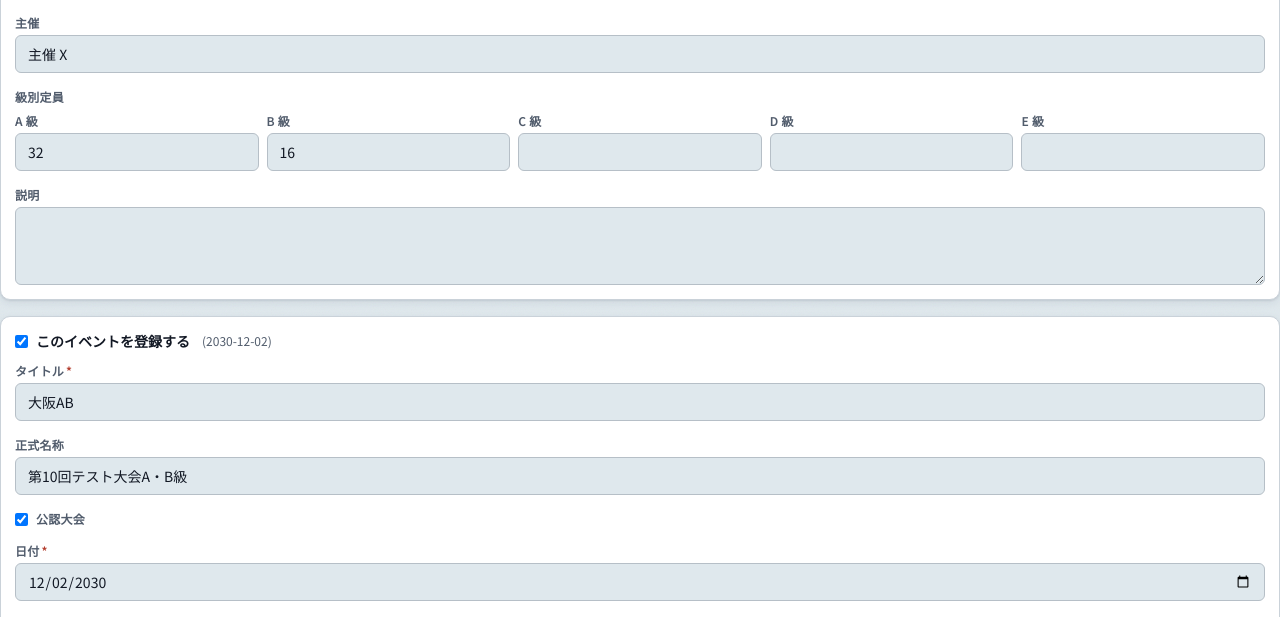
Test: ApprovalForm — 複数単位フォーム › 登録対象の種別変更で選択済み系列が不適合になったら解除する
(page scrolled)
Click the checkbox labelled "このイベントを登録する (2030-12-02)": (22, 341) [15, 335, 28, 348]
(page scrolled)
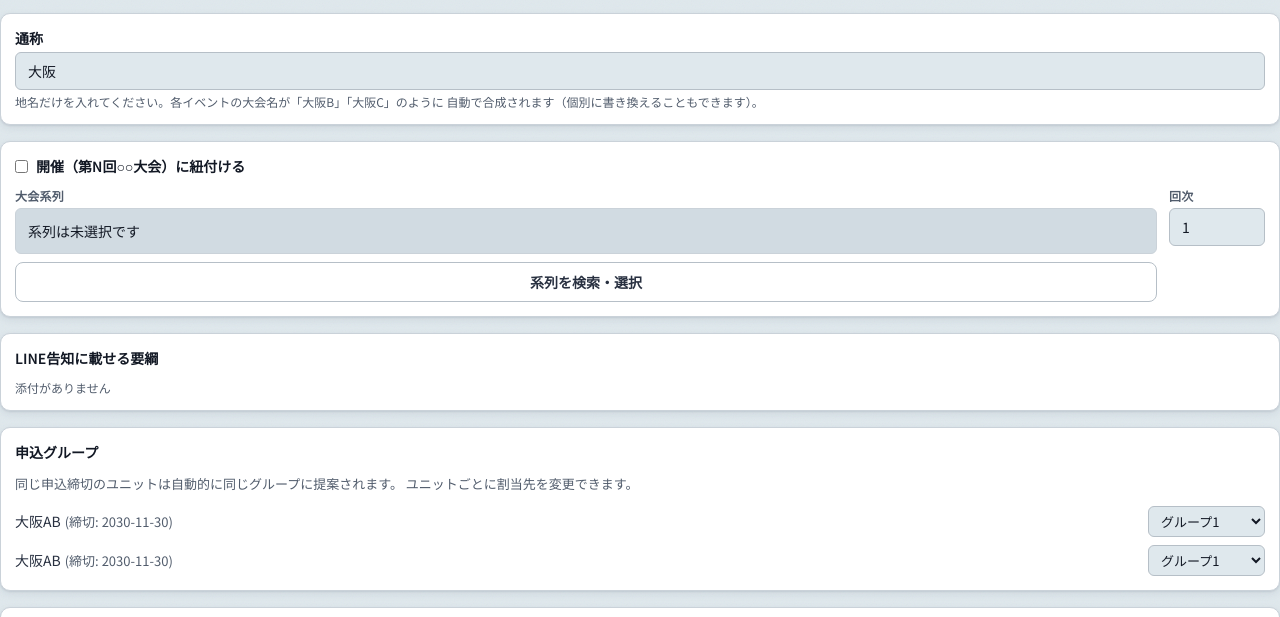
Click the button "系列を検索・選択": (586, 282) [15, 262, 1157, 302]
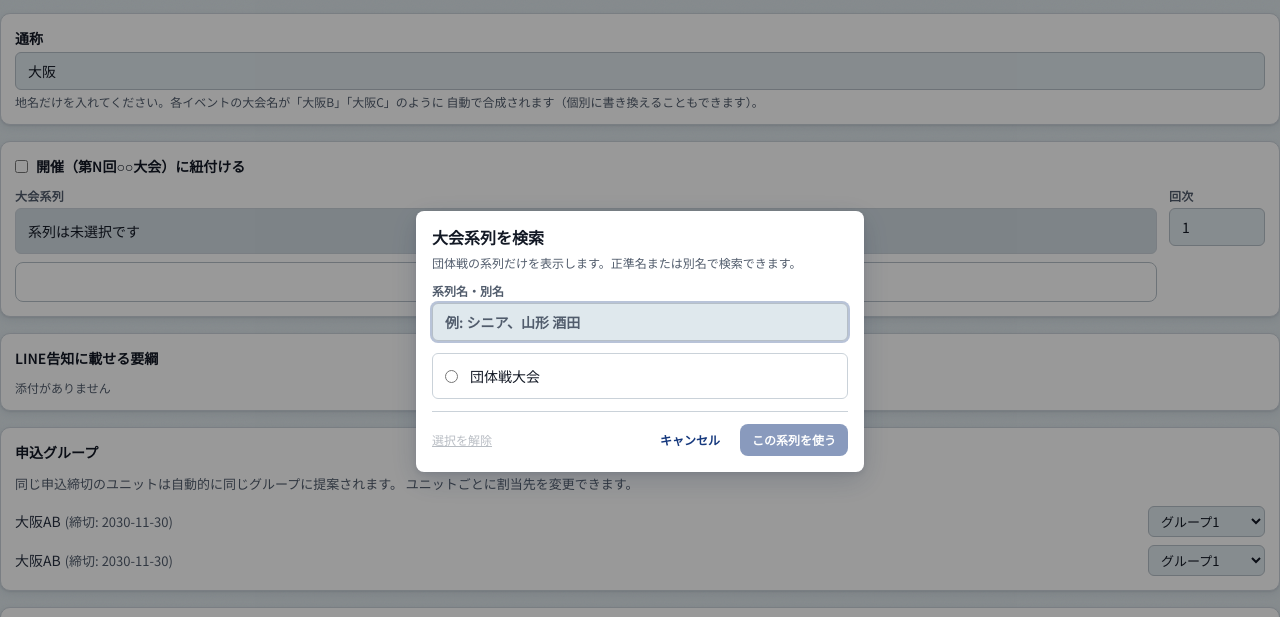
Click the radio button labelled "団体戦大会": (452, 376) [445, 370, 458, 382]
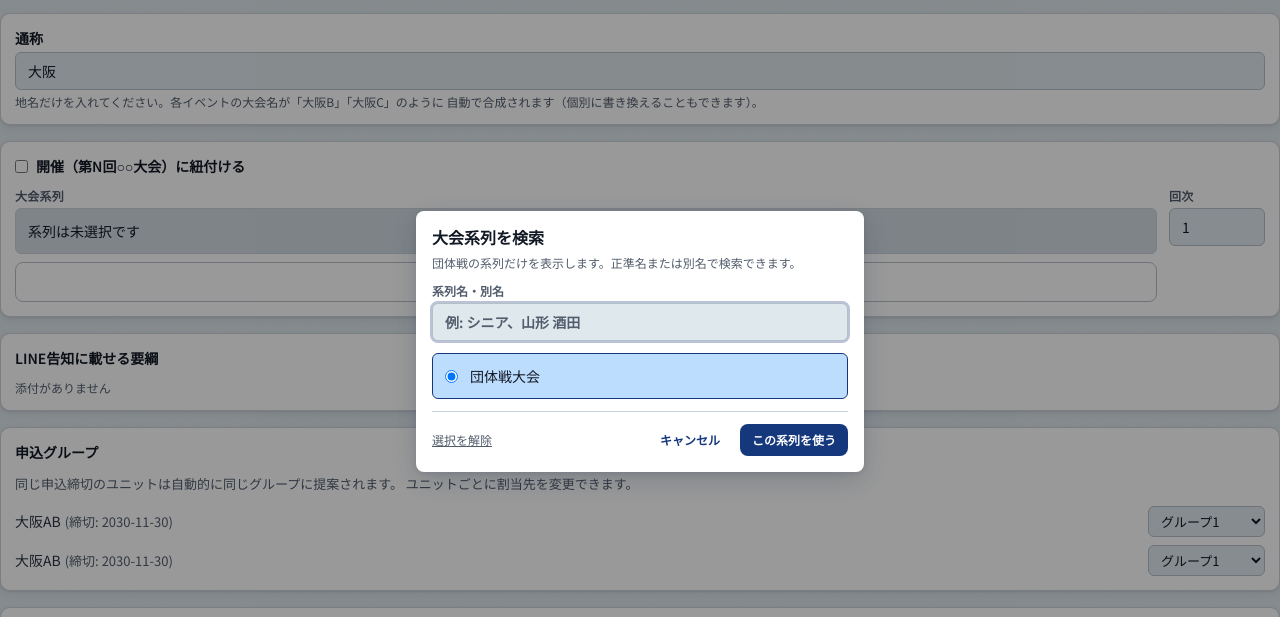
Click the button "この系列を使う": (794, 440) [740, 424, 848, 456]
(page scrolled)
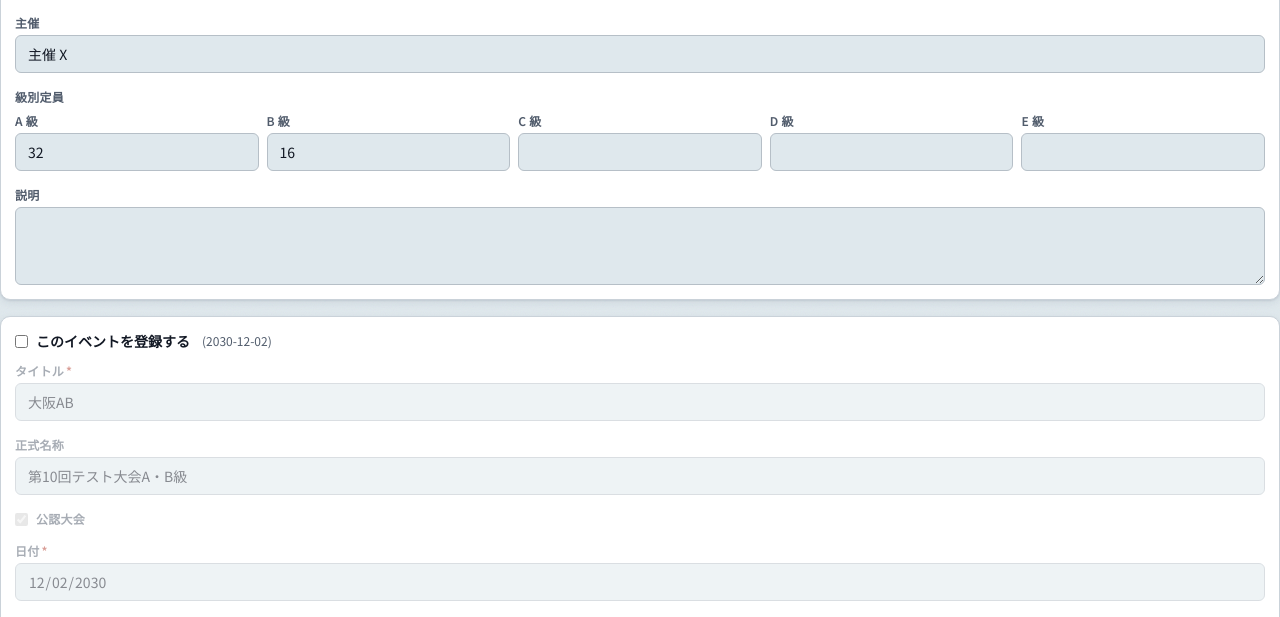
Click the checkbox labelled "このイベントを登録する (2030-12-02)": (22, 341) [15, 335, 28, 348]
(page scrolled)
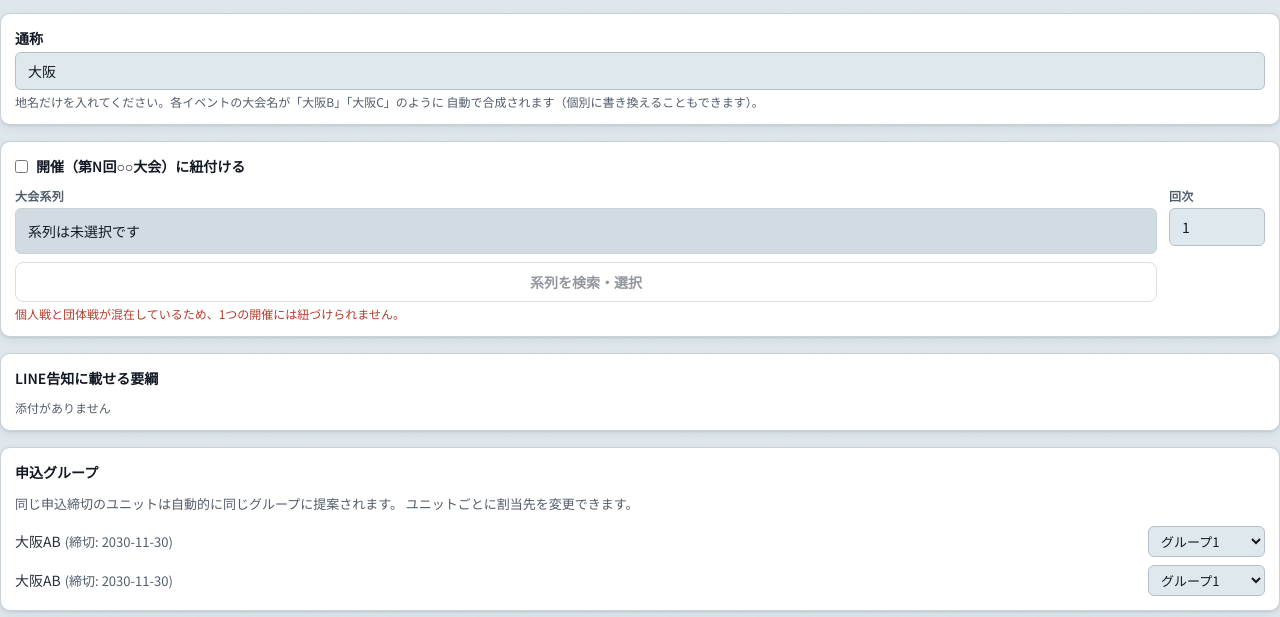
Expected: the element named "editionSeriesId" is empty, [15, 156, 1265, 322]
Expected: the checkbox named "editionLink" is not checked, [15, 160, 28, 172]
